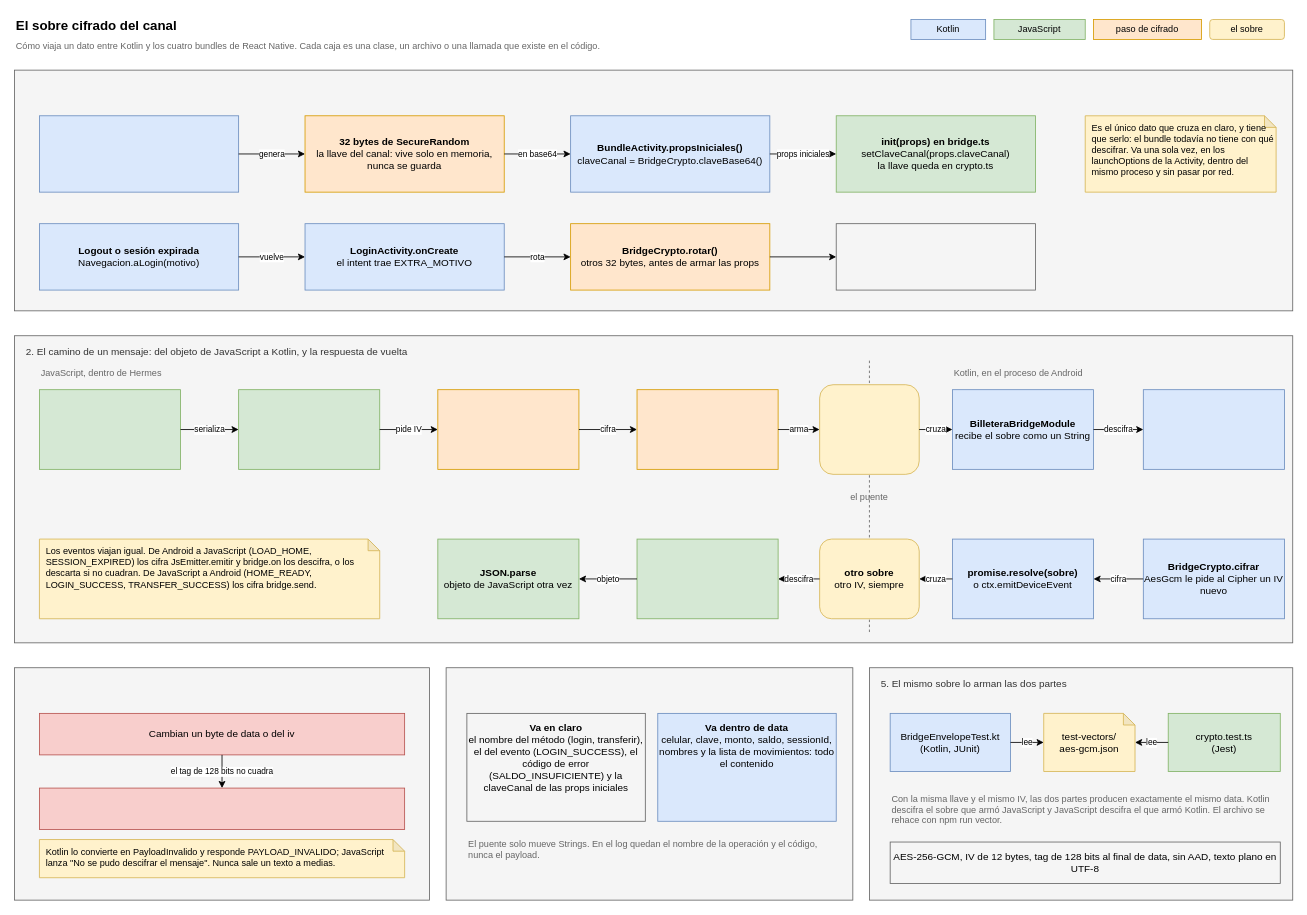
This 1307x915 diagram has some shape labels left out. The shapes that lost their labels are listed below. From the top down, each one's box as (x1, y1, x2, y2) in pixels, then its label:
(39, 115, 239, 192): BilleteraApp.onCreate BridgeCrypto.inicializar()
(14, 69, 1293, 311): 1. De dónde sale la llave del canal y cómo llega al bundle
(835, 223, 1035, 290): El bundle anterior queda con una llave que ya no descifra nada
(39, 389, 181, 469): Objeto de JavaScript {celular, monto, descripcion} useTransferencia.ts
(238, 389, 380, 469): JSON.stringify queda un texto plano en UTF-8
(437, 389, 579, 469): randomBytes(12) un IV nuevo por mensaje, del SecureRandom nativo
(636, 389, 778, 469): gcm(llave, iv).encrypt AES-256-GCM, con el tag de 128 bits al final
(819, 384, 919, 474): el sobre {"iv": ..., "data": ...} los dos en base64
(1142, 389, 1284, 469): BridgeCrypto.descifrar misma llave y ese IV JSONObject → BancoMockApi
(636, 538, 778, 619): descifrar(envelope) misma llave, el IV que trae el sobre
(14, 667, 430, 900): 3. Si alguien cambia un byte
(445, 667, 853, 900): 4. Qué va en claro y qué no
(39, 787, 405, 830): El descifrado falla entero: no devuelve basura
